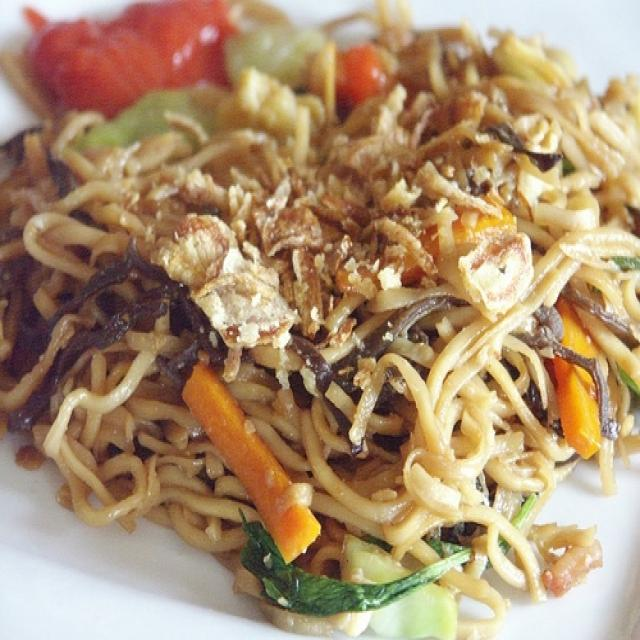面条主食: (5, 5, 626, 618)
